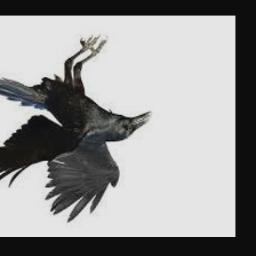Crow: (0, 37, 151, 222)
